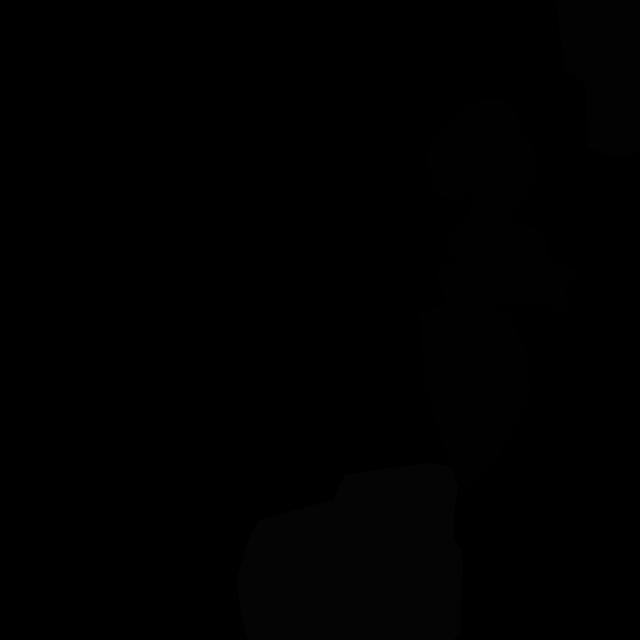cardboard: (556, 0, 640, 157)
rigid_plastic: (426, 99, 580, 313), (419, 304, 532, 488)
soft_plastic: (237, 463, 463, 640)
